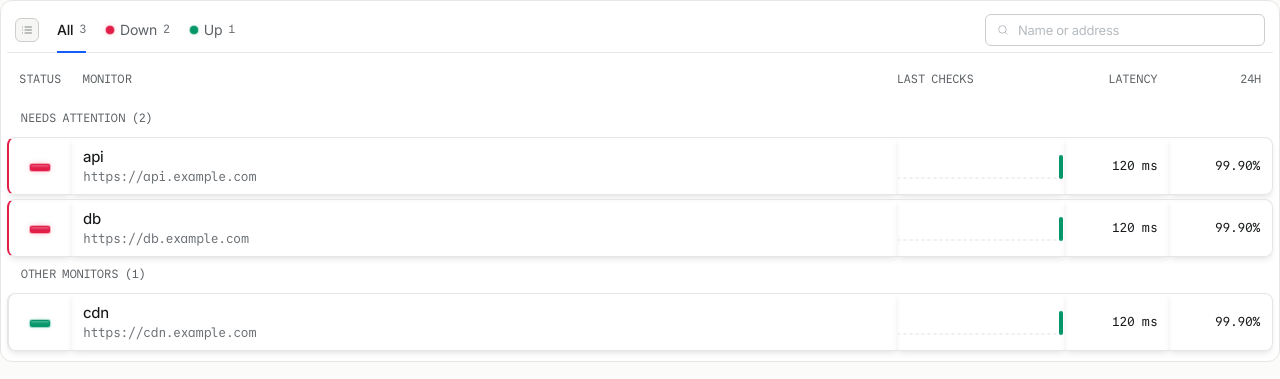
Dashboard › combines the status tab with the search box
The image size is (1280, 379).
Click the button "Down 2".
click(138, 30)  # box [98,7,178,52]
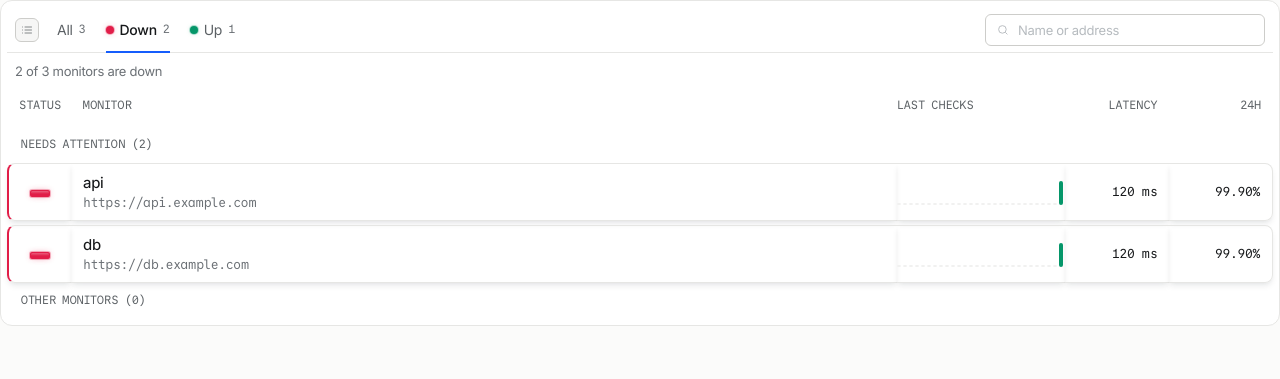
Type "api" into the search field named "filter monitors".
click(1136, 30); type("api")  # box [1018,22,1254,38]
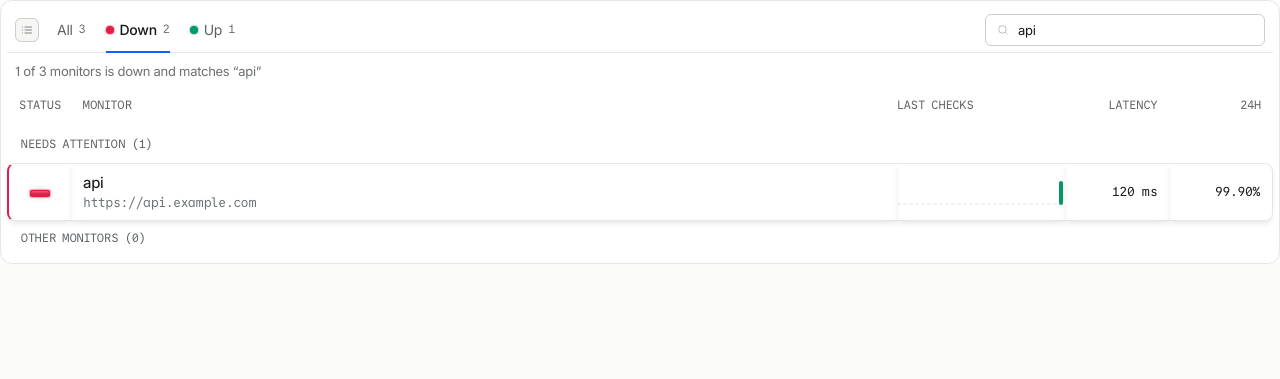
Now the text "1 of 3 monitors is down and matches “api”" is shown, box [15,63,261,79]
